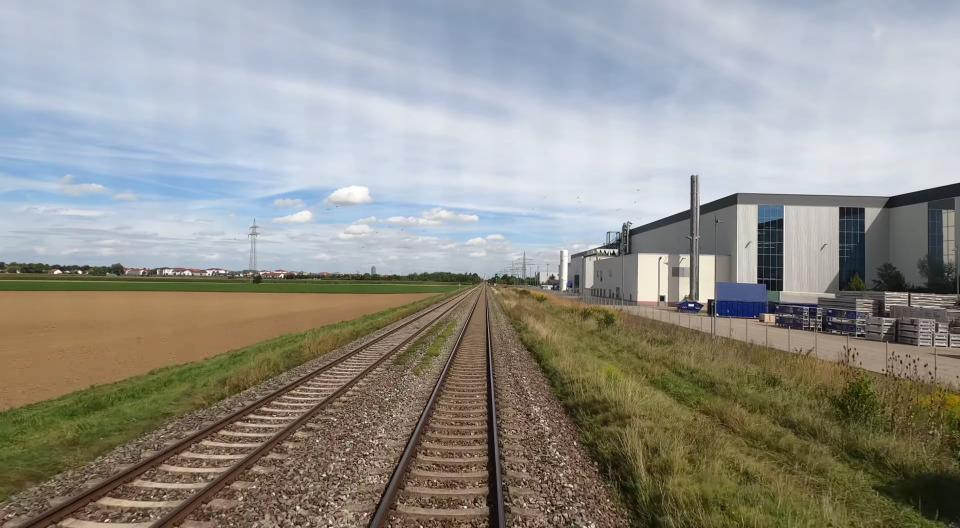Plant: (392, 319, 446, 365), (426, 319, 456, 356), (421, 355, 432, 364), (412, 366, 422, 375)
